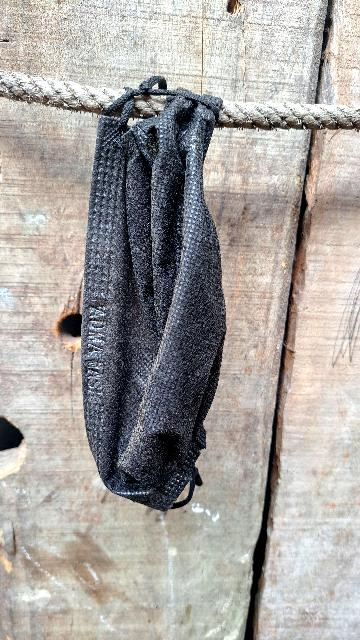mask: (63, 85, 222, 495)
